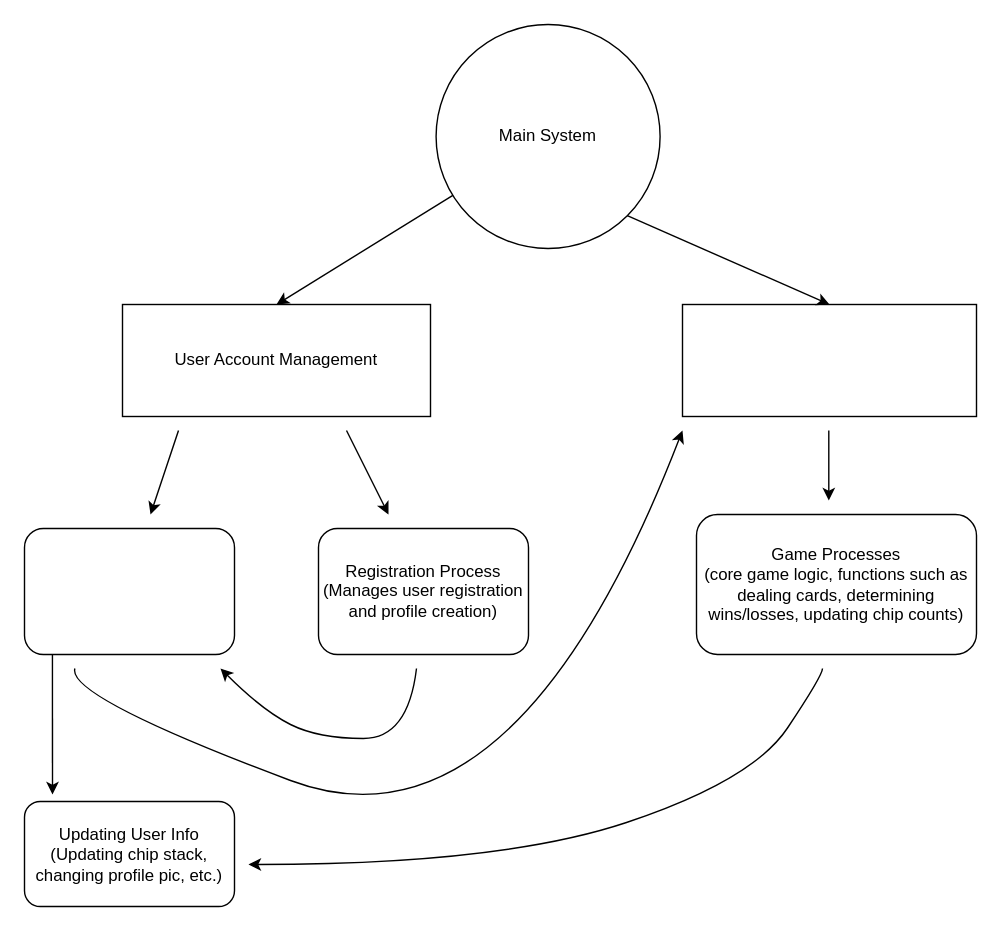
This 1001x931 diagram has some shape labels left out. The shapes that lost their labels are listed below. From the top down, each one's centre as x and y in pixels, then its label:
point 828,359: Blackjack Game Interface
point 128,590: Login Process (Handles user login auth as well as login functionality)
